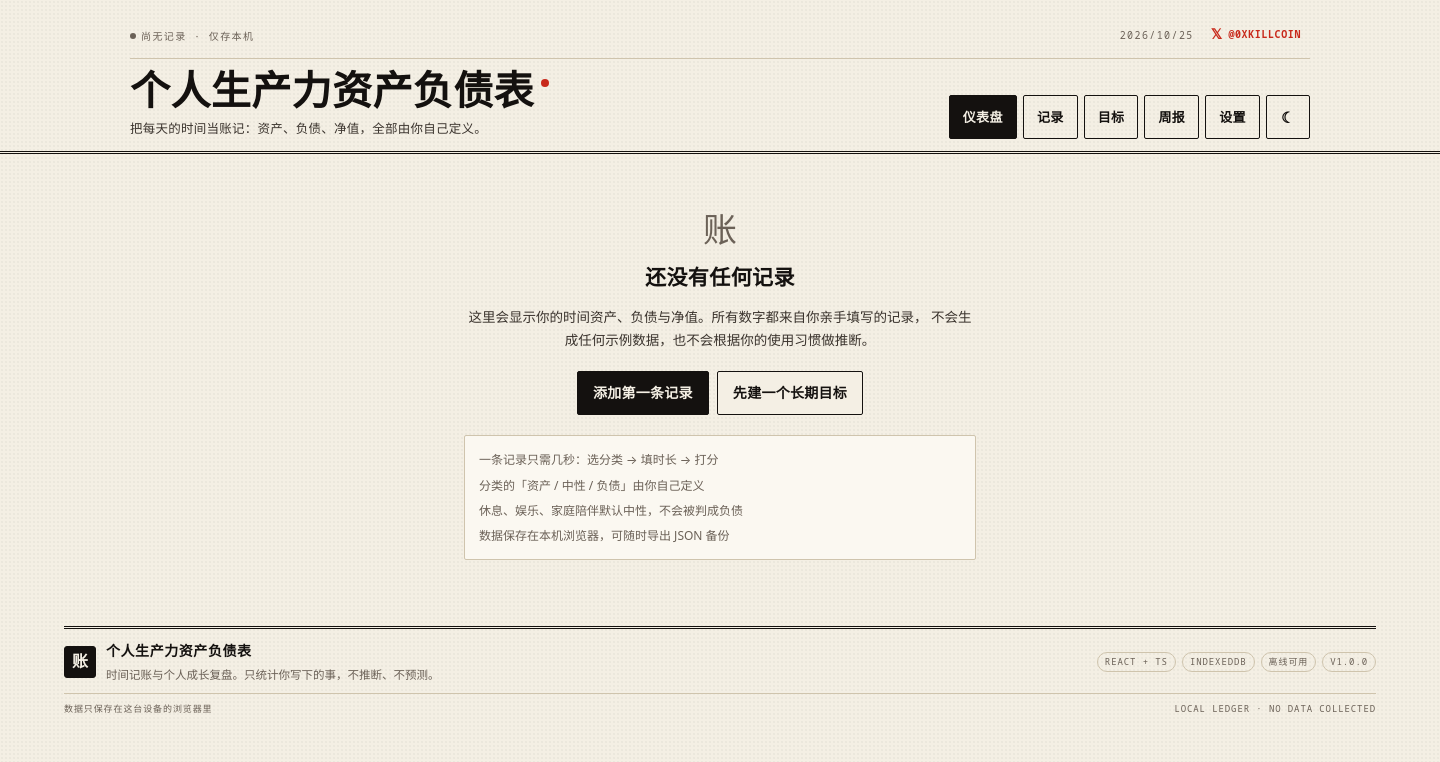
it: 应用冒烟测试 › 顶栏在所有页面都可见（含记录页与设置页）
Expected: the heading "还没有任何记录" is shown, [645,266,795,290]
Click the link "记录": [1050, 117] box [1023,95,1078,139]
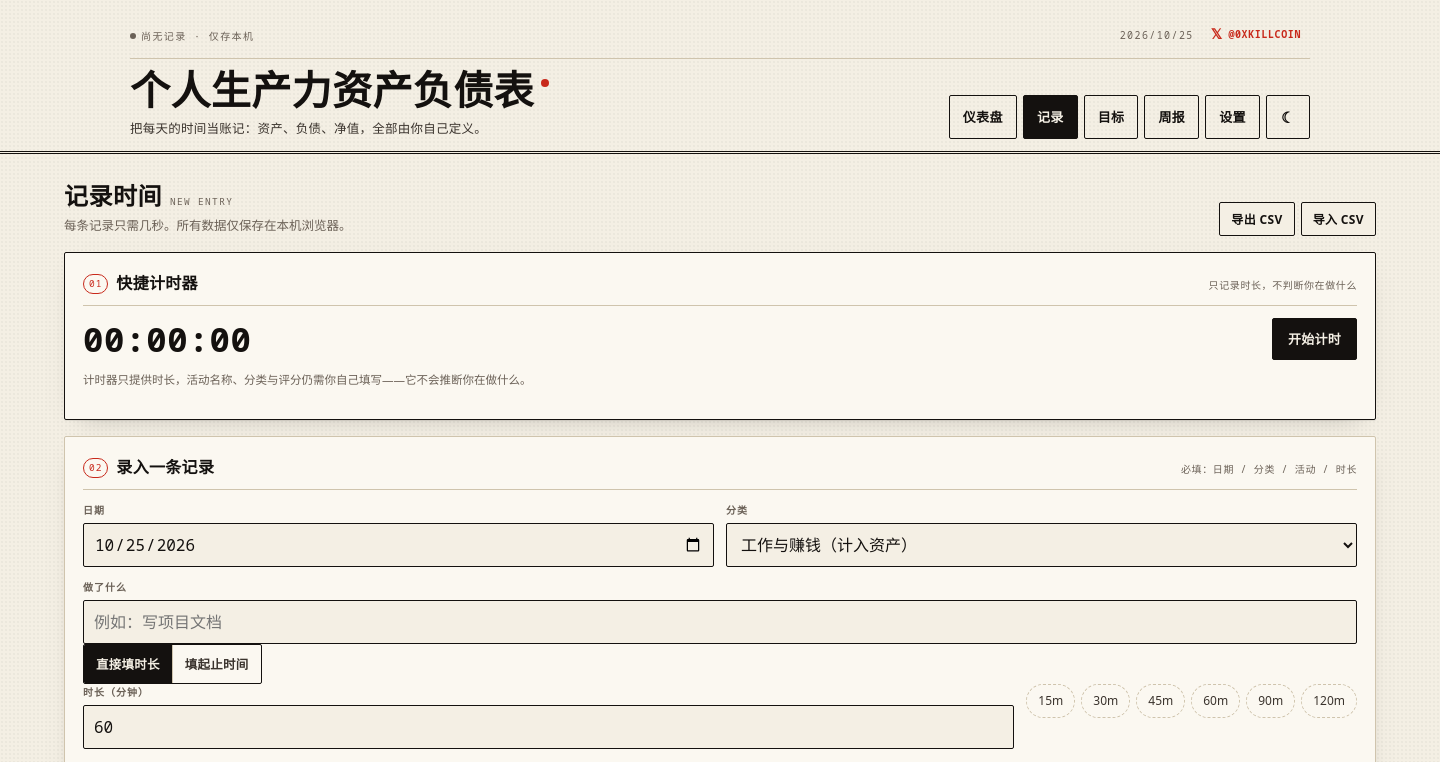
Expected: the link "𝕏 @0xkillcoin" is shown, [1211,24,1301,43]
Expected: the heading "记录时间 NEW ENTRY" is shown, [64,184,233,210]
Click the link "设置": [1233, 117] box [1205,95,1260,139]
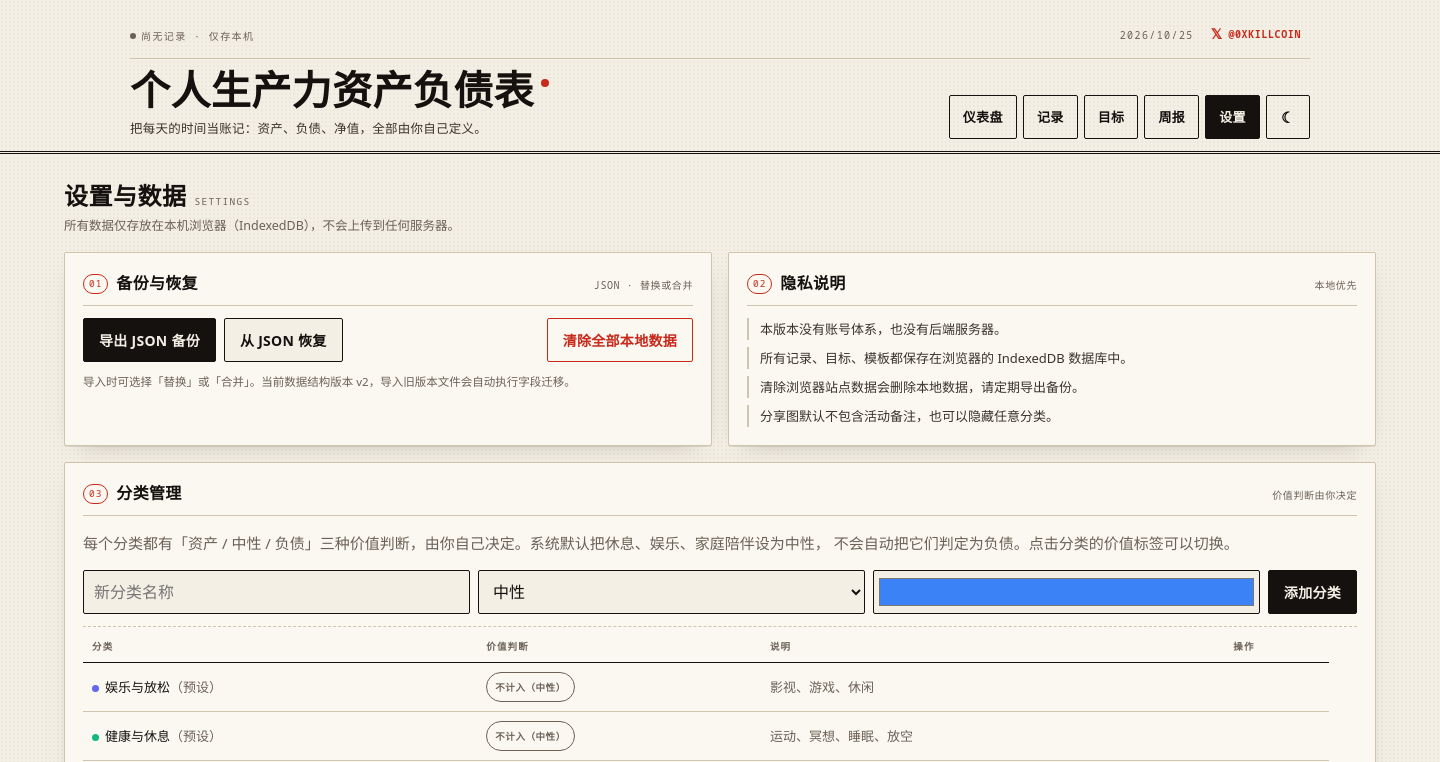
Expected: the link "𝕏 @0xkillcoin" is shown, [1211,24,1301,43]
Expected: the heading "设置与数据 SETTINGS" is shown, [64,184,251,210]
